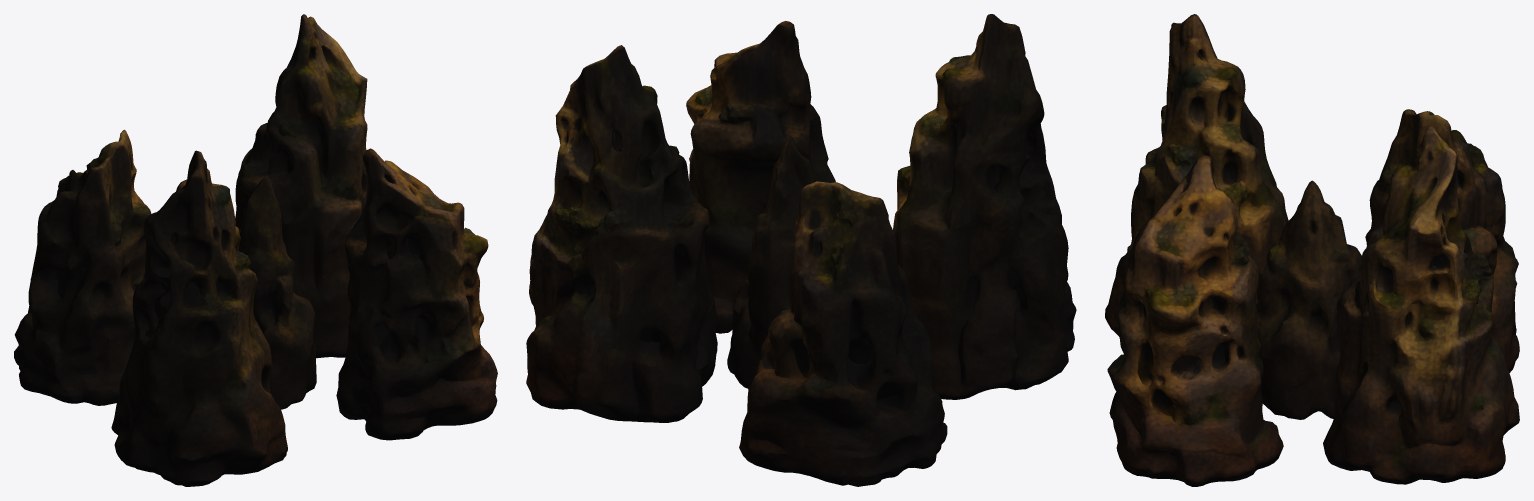
The model's file is shore_rocks_jaffa.glb.
3 renders of one model, left to right at view 1: azimuth 30°, elevation 25°; view 2: azimuth 150°, elevation 25°; view 3: azimuth 270°, elevation 25°, orthographic. The views are drawn at different scales.
Parts seen in each view (by area): view 1: geometry_0; view 2: geometry_0; view 3: geometry_0.
Boxes of the visible parts, x1=… form: geometry_0: x1=14, y1=14, x2=497, y2=486; geometry_0: x1=526, y1=14, x2=1076, y2=486; geometry_0: x1=1105, y1=14, x2=1519, y2=486.
Size of the model in its own units: 12 by 9.7 by 11.17.
1 material, 1 textured.
